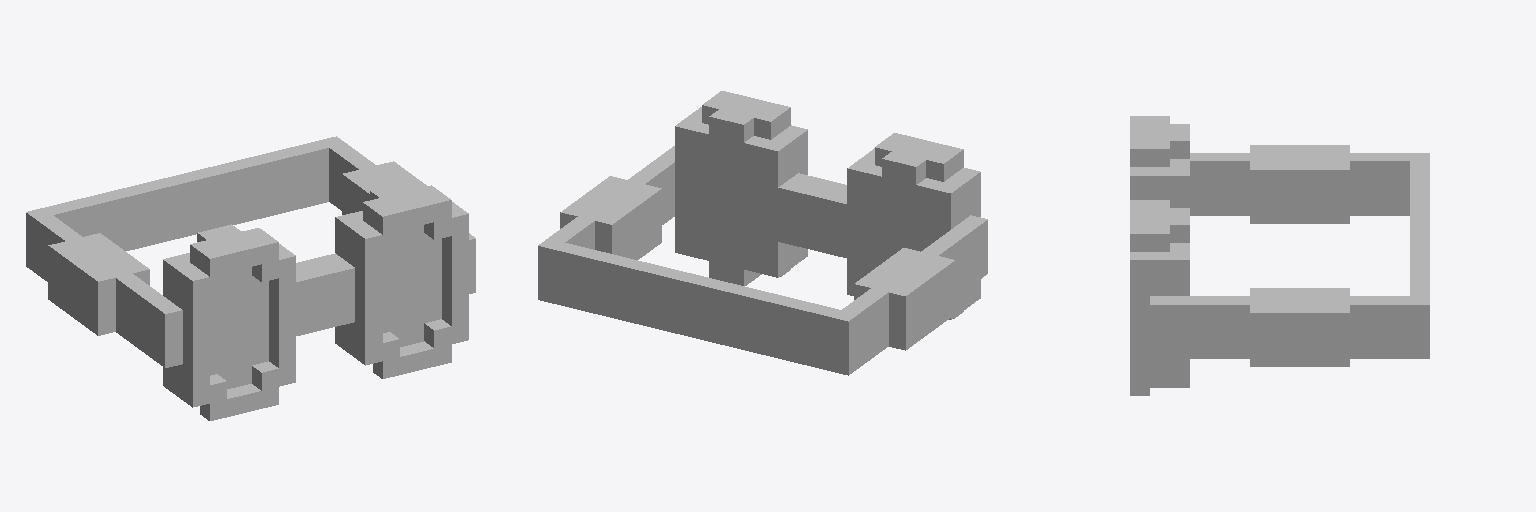
The model's file is Lentes3.obj.
3 renders of one model, left to right at view 1: azimuth 30°, elevation 25°; view 2: azimuth 150°, elevation 25°; view 3: azimuth 270°, elevation 25°, orthographic.
Parts seen in each view (by area): view 1: Untitled; view 2: Untitled; view 3: Untitled.
Part boxes in pixels (x1,y1,x2,y2): Untitled: (26,136,475,420); Untitled: (538,91,987,375); Untitled: (1130,116,1429,395).
Bounding box in the file's own units: 2 × 0.9 × 1.5.